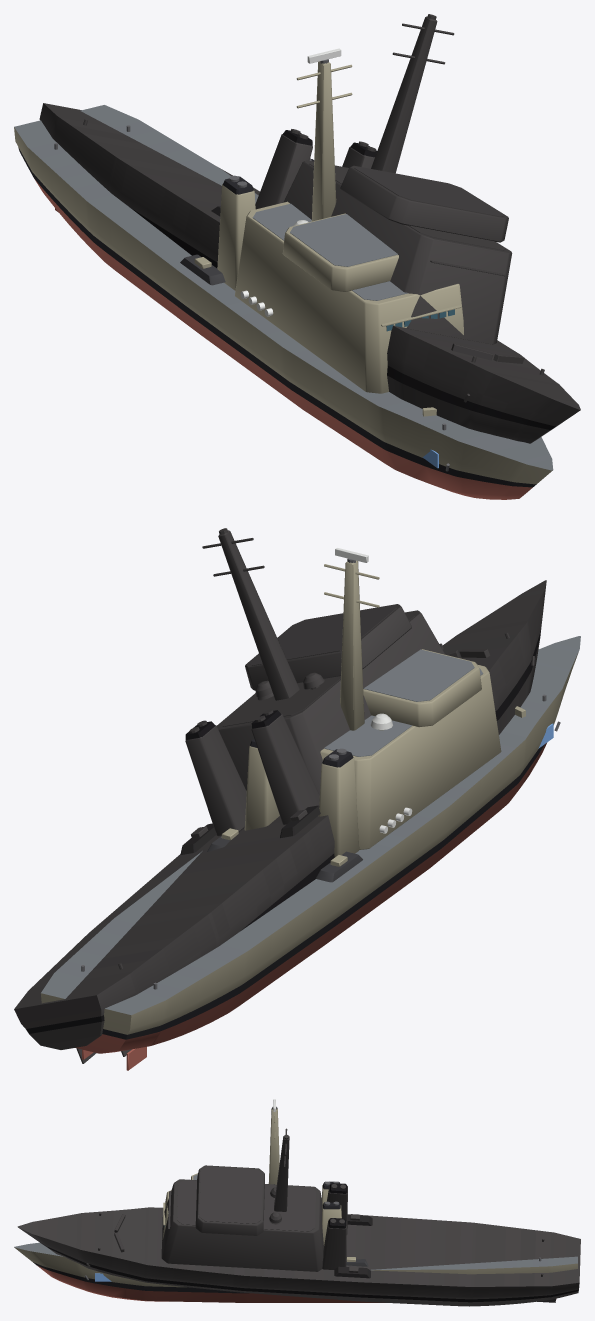
File: gunboat__river_batch_1.glb
3 views of the same model, one above another, from view 1: azimuth 30°, elevation 25°; view 2: azimuth 150°, elevation 25°; view 3: azimuth 270°, elevation 25° (orthographic). The views are drawn at different scales.
Parts seen in each view (by area): view 1: Hull_Mesh, Wreck; view 2: Hull_Mesh, Wreck; view 3: Wreck, Hull_Mesh.
Part boxes in pixels (<box>): Hull_Mesh: <box>14,61,553,499</box>; Wreck: <box>39,14,580,443</box>; Hull_Mesh: <box>40,560,580,1070</box>; Wreck: <box>14,528,546,1063</box>; Wreck: <box>17,1128,580,1306</box>; Hull_Mesh: <box>14,1108,577,1302</box>.
Size of what is drawn, in the model's own units: 20.24 by 31.44 by 83.28.
